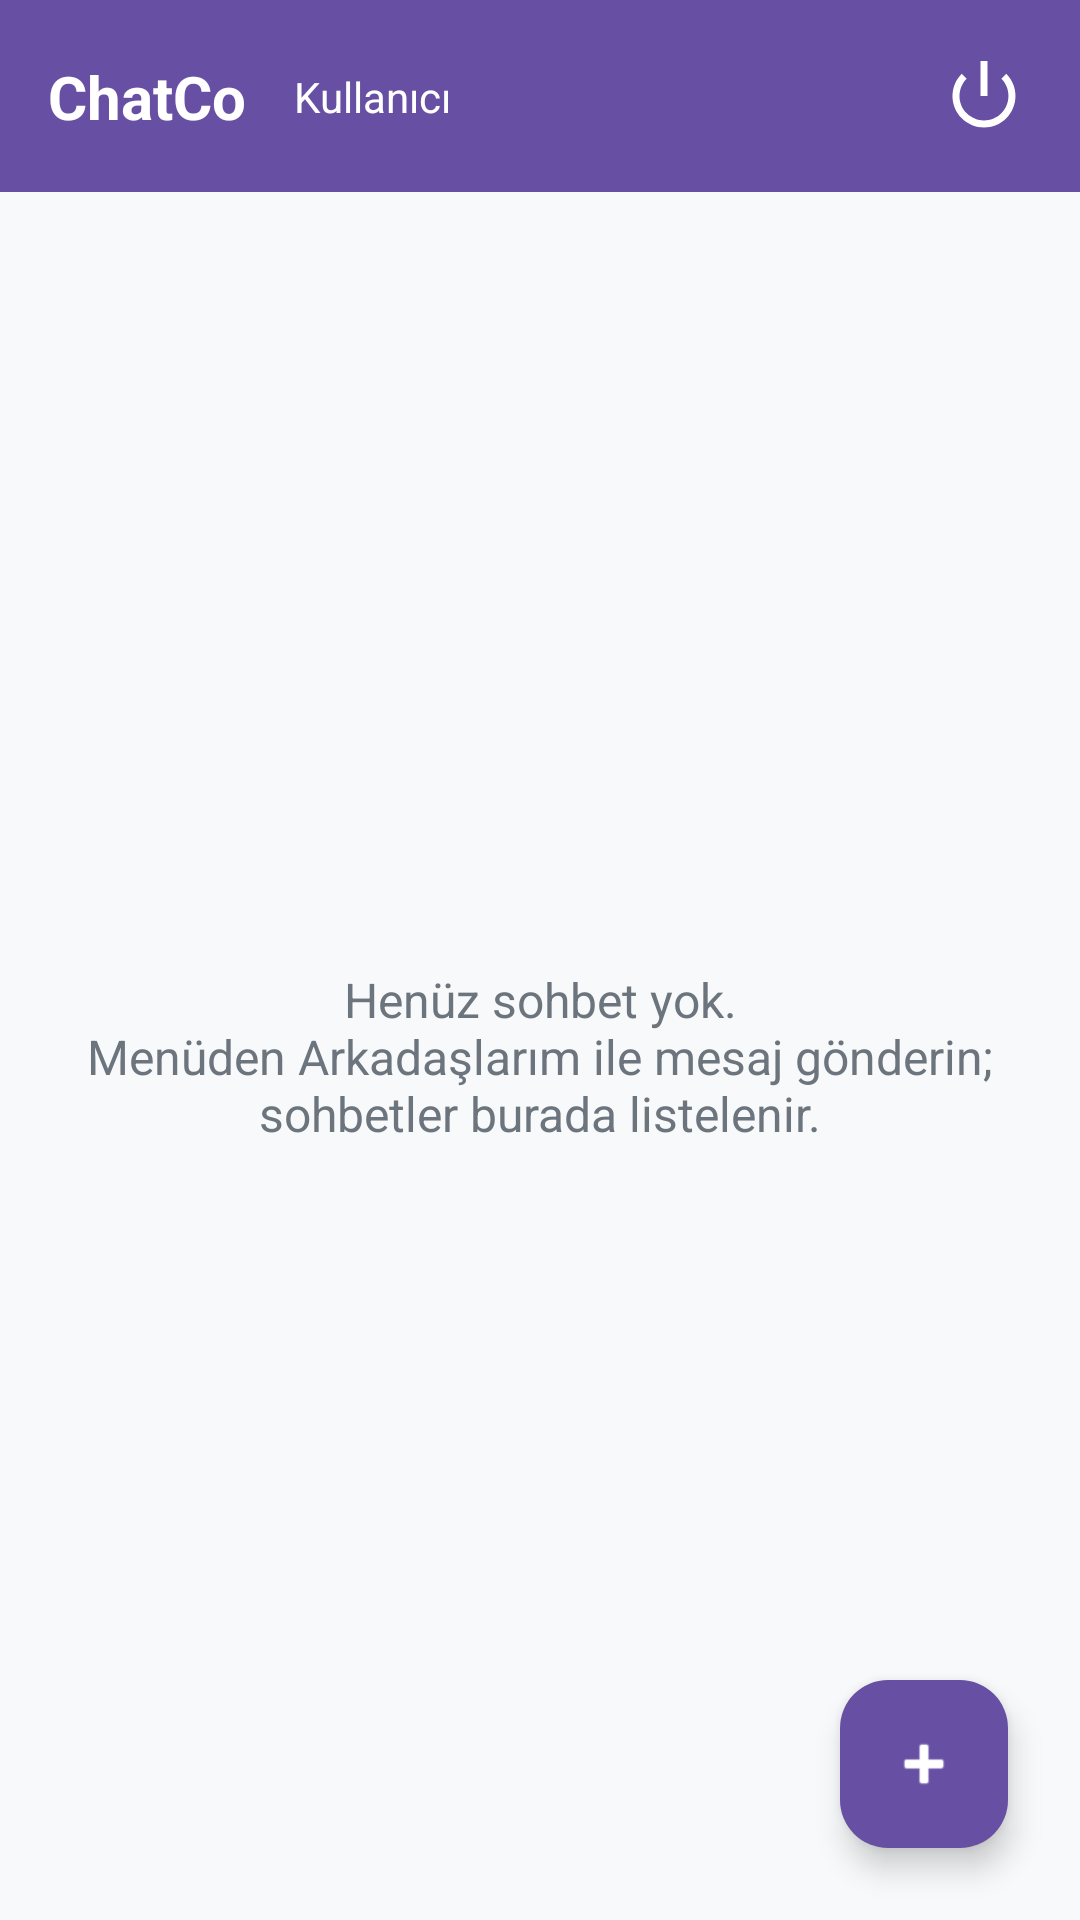

Named icons in this screenshot (1080px x 1920px) and their centers, point (x, y):
Yeni Sohbet: point (924, 1764)
Çıkış Yap: point (984, 94)
